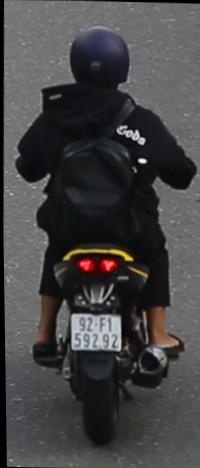LP: (68, 308, 123, 353)
helmet: (64, 22, 132, 94)
